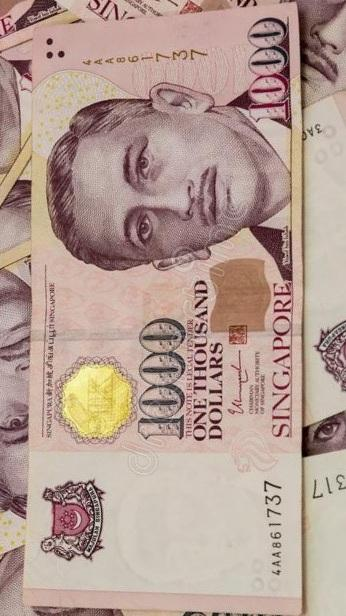1000SingaporeDollar: (30, 25, 304, 602)
